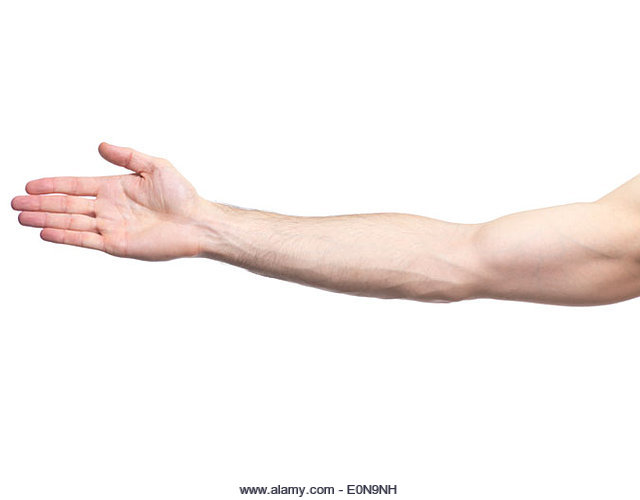hand: (6, 139, 226, 271)
